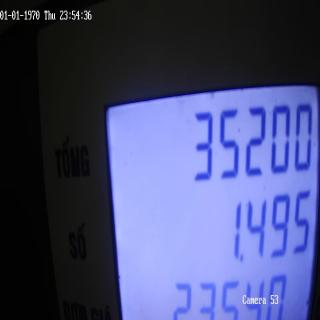screen: (96, 59, 317, 320)
